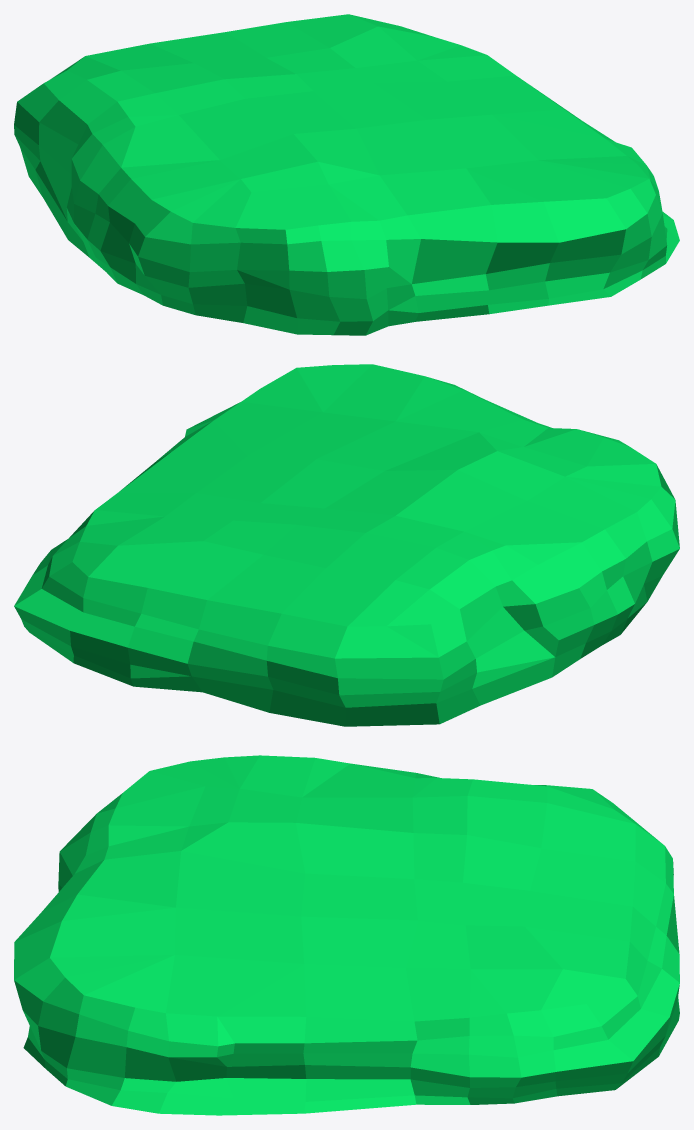
File: LargeRock_01_Collider.fbx
The picture shows the model from 3 angles, top to bottom: view 1: azimuth 30°, elevation 25°; view 2: azimuth 150°, elevation 25°; view 3: azimuth 270°, elevation 25°; orthographic projection. The views are drawn at different scales.
Parts seen in each view (by area): view 1: LargeRock_01_Collider; view 2: LargeRock_01_Collider; view 3: LargeRock_01_Collider.
Boxes of the visible parts, x1,y1,x2,y2 form: LargeRock_01_Collider: [14, 14, 679, 335]; LargeRock_01_Collider: [14, 364, 679, 726]; LargeRock_01_Collider: [14, 755, 679, 1115].
Bounding box in the file's own units: 4874 × 1082 × 5186.
